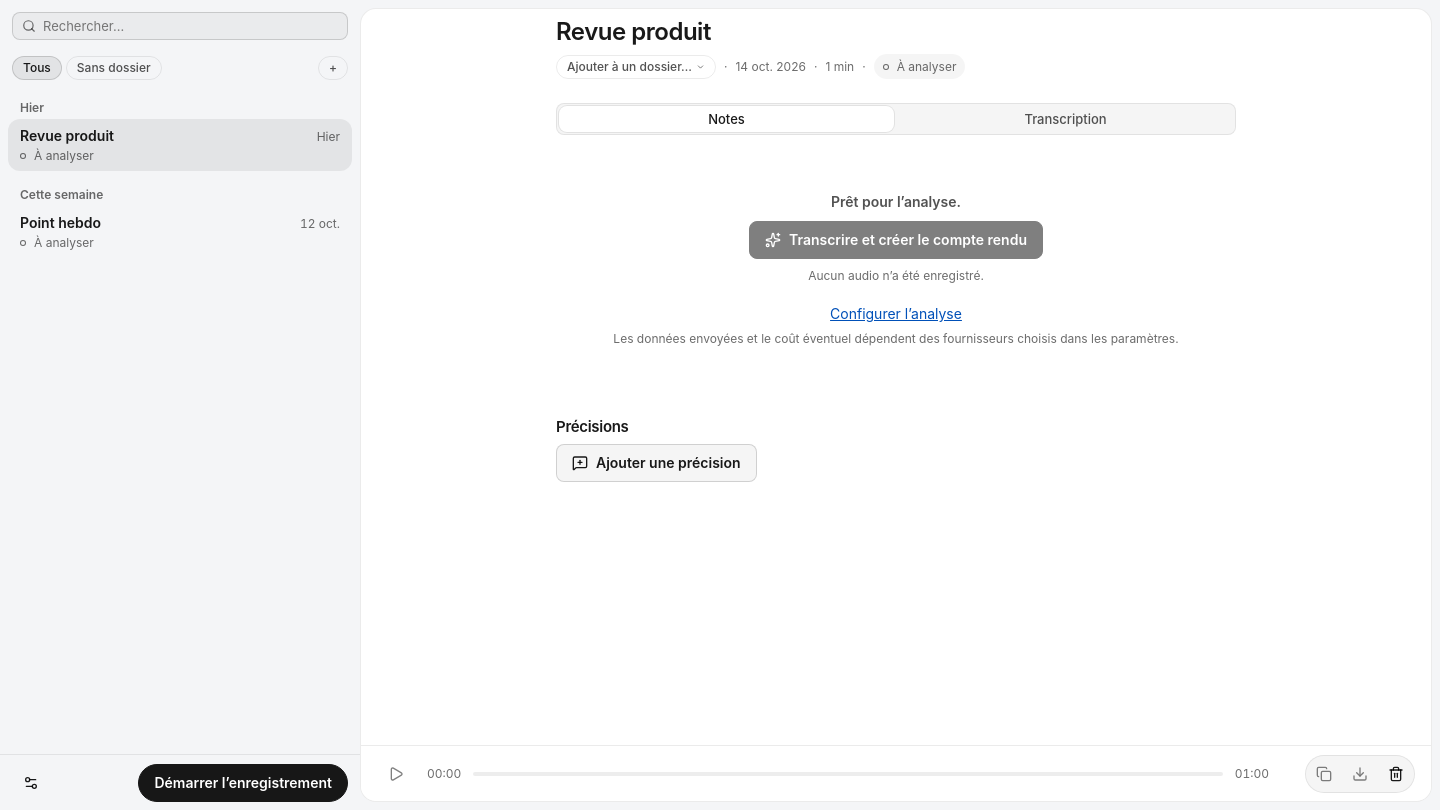
Meeting list and card › returns to the selected meeting when the settings button is pressed again
Step 1. Click the button named "Paramètres" → [31, 782], box [12,764,50,802]
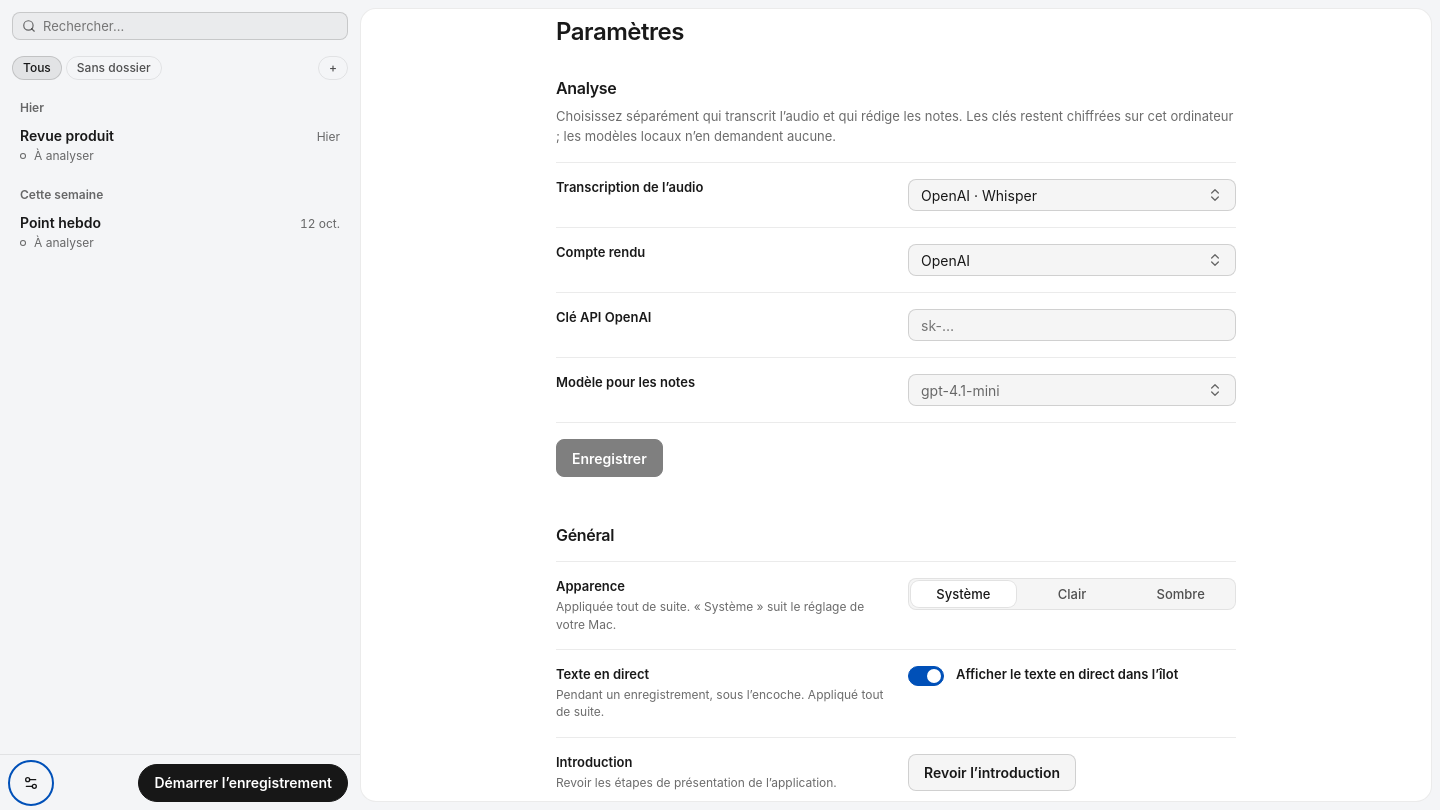
Expected: the heading "Paramètres" is shown, [556,17,684,46]
Step 2. Click the button named "Paramètres" → [31, 782], box [12,764,50,802]
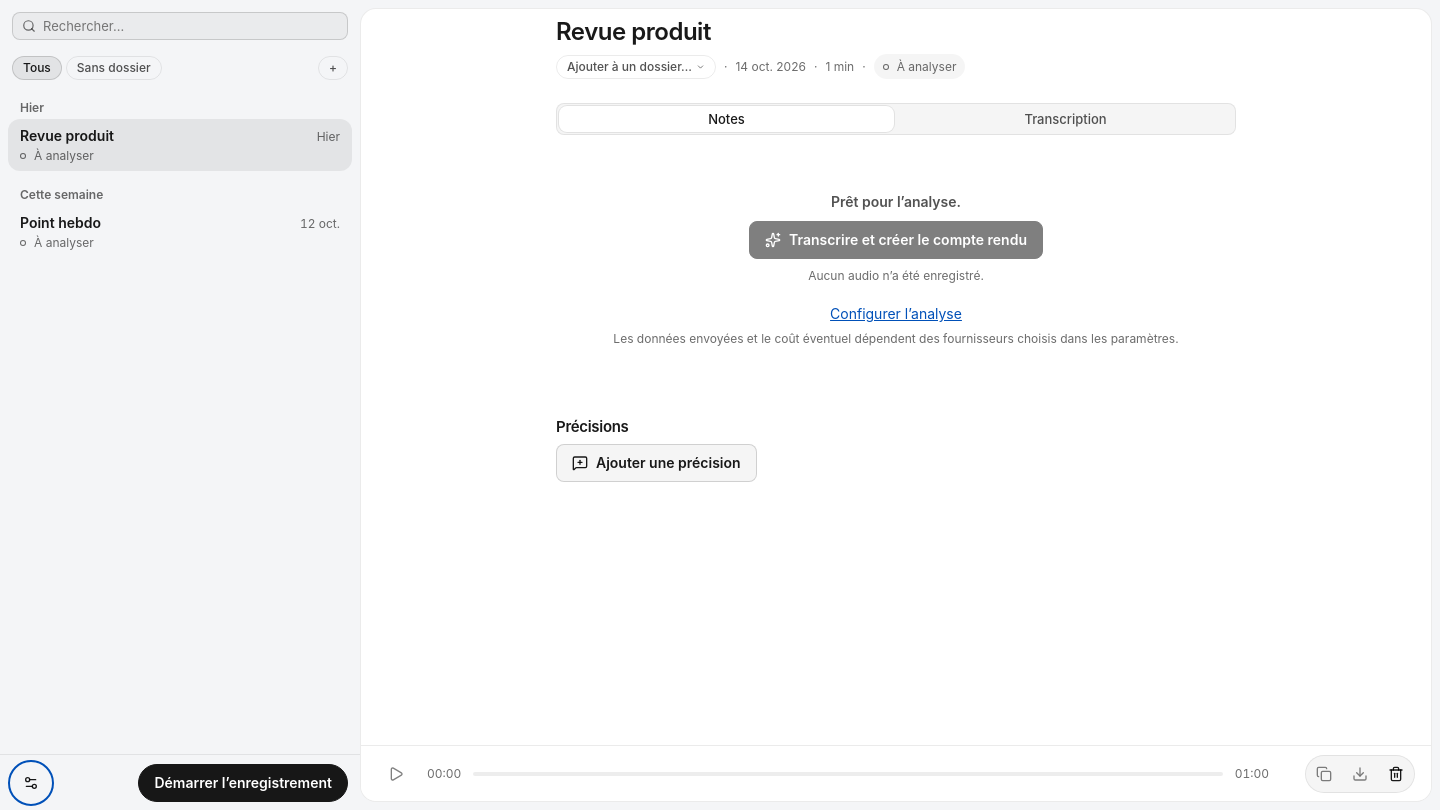
Expected: the heading "Revue produit" is shown, [556,17,711,46]
